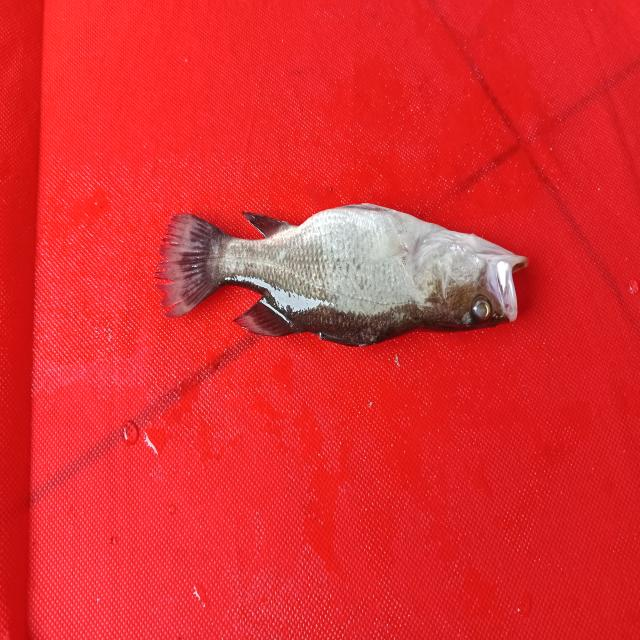ikan: (149, 155, 547, 375)
